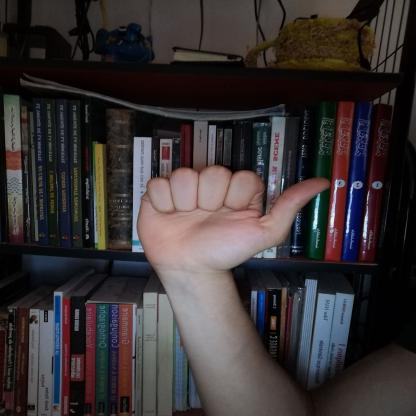DAD: (125, 159, 342, 283)
